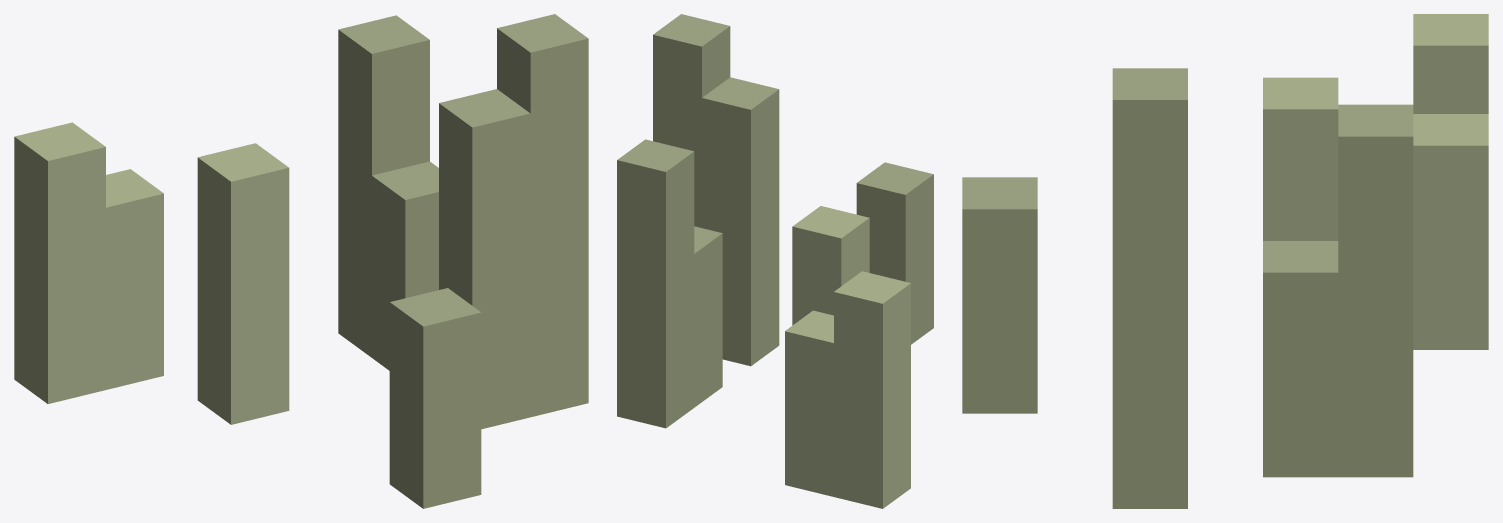
File: tomillo_03.glb
The picture shows the model from 3 angles, left to right: view 1: azimuth 30°, elevation 25°; view 2: azimuth 150°, elevation 25°; view 3: azimuth 270°, elevation 25°; orthographic projection. The views are drawn at different scales.
Visible parts, largest first — view 1: tomillo_03; view 2: tomillo_03; view 3: tomillo_03.
Boxes of the visible parts, x1=… form: tomillo_03: x1=14, y1=14, x2=588, y2=508; tomillo_03: x1=617, y1=14, x2=933, y2=508; tomillo_03: x1=962, y1=14, x2=1488, y2=508.
Size of the model in its own units: 0.7 by 0.6 by 0.7.
